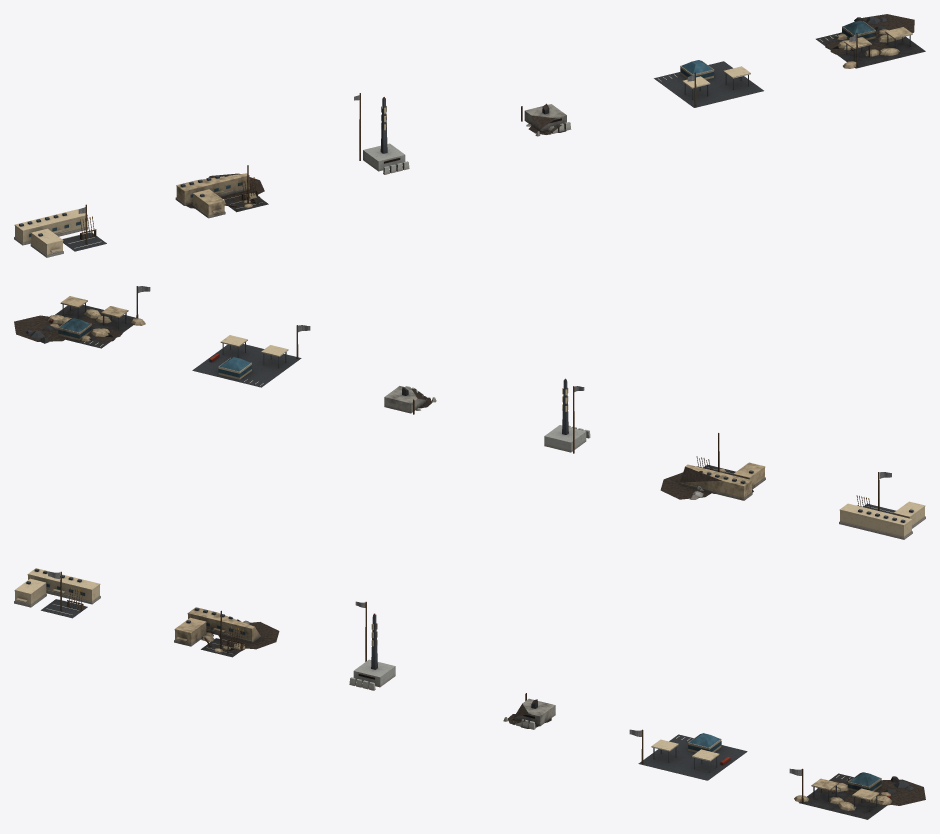
File: rts-information-levant.glb
The picture shows the model from 3 angles, top to bottom: view 1: azimuth 30°, elevation 25°; view 2: azimuth 150°, elevation 25°; view 3: azimuth 330°, elevation 25°; orthographic projection.
Parts seen in each view (by area): view 1: LOD0.005, LOD0.004, LOD0.001, LOD0, LOD0.002, LOD0.003; view 2: LOD0.005, LOD0.004, LOD0.001, LOD0, LOD0.002, LOD0.003; view 3: LOD0.005, LOD0.004, LOD0.001, LOD0, LOD0.002, LOD0.003.
Boxes of the visible parts, <box> form: LOD0.005: <box>816,14,925,68</box>; LOD0.004: <box>654,60,763,107</box>; LOD0.001: <box>175,165,268,218</box>; LOD0: <box>14,204,106,257</box>; LOD0.002: <box>354,93,409,174</box>; LOD0.003: <box>521,103,571,136</box>; LOD0.005: <box>14,286,150,348</box>; LOD0.004: <box>192,325,310,387</box>; LOD0.001: <box>660,433,765,500</box>; LOD0: <box>839,472,925,539</box>; LOD0.002: <box>544,378,590,453</box>; LOD0.003: <box>384,386,436,414</box>; LOD0.005: <box>789,768,925,819</box>; LOD0.004: <box>629,729,747,780</box>; LOD0.001: <box>174,607,279,657</box>; LOD0: <box>14,568,100,618</box>; LOD0.002: <box>349,601,395,690</box>; LOD0.003: <box>503,693,555,729</box>.
Size of what is drawn, in the model's own units: 16.7 by 1.2 by 1.69.
2 materials, 2 textured.
